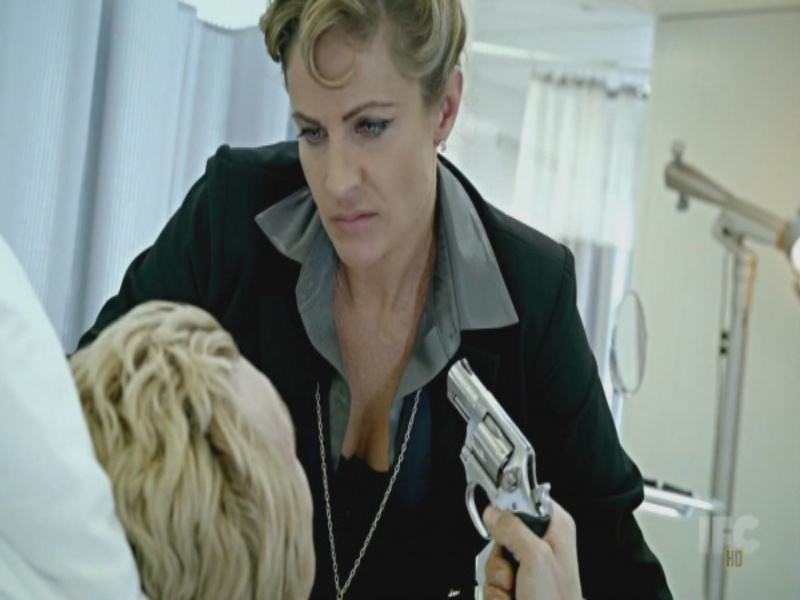person: (58, 1, 675, 596), (74, 287, 592, 597)
weapon: (447, 353, 551, 594)
